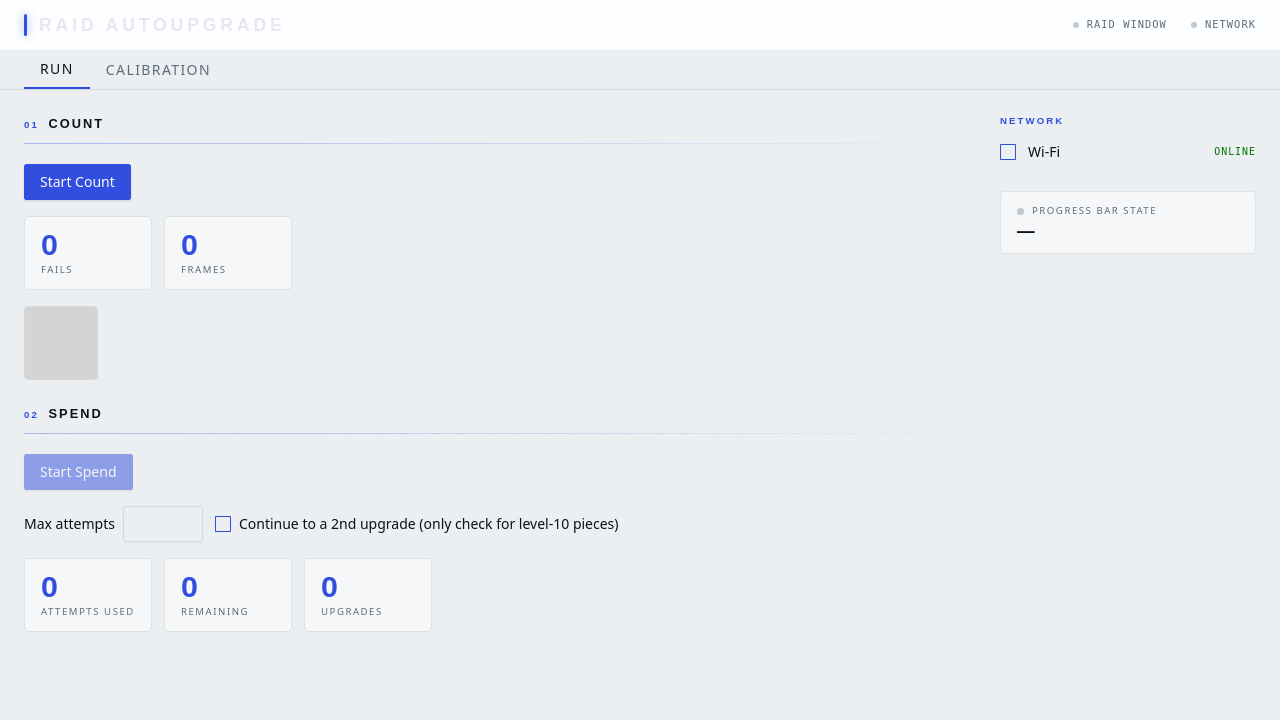
Test: App › Calibration tab renders RegionPanel in view mode when regions are cached
The width and height of the screenshot is (1280, 720).
What coordinates should you click on to do the following:
click the tab "Calibration"
I would click on:
 (158, 70)
Its box is [90,51,227,89].
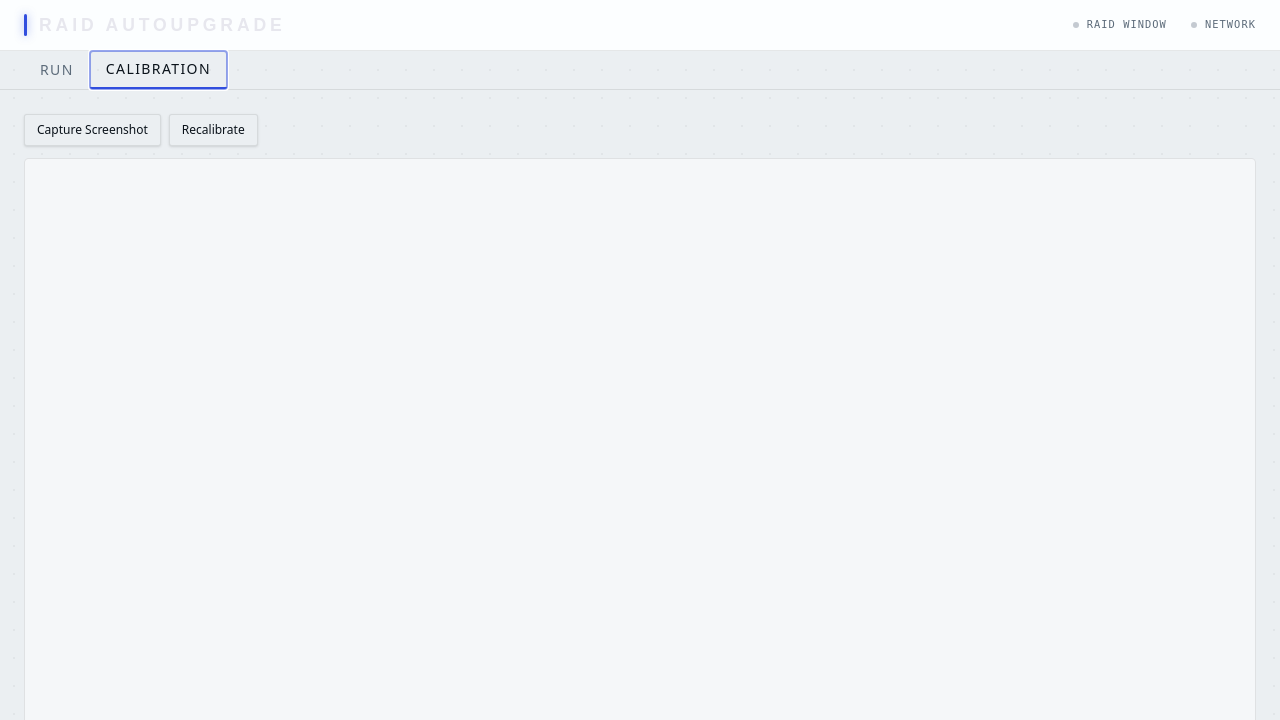
Expected: the button "Recalibrate" is shown, [169,114,258,146]
